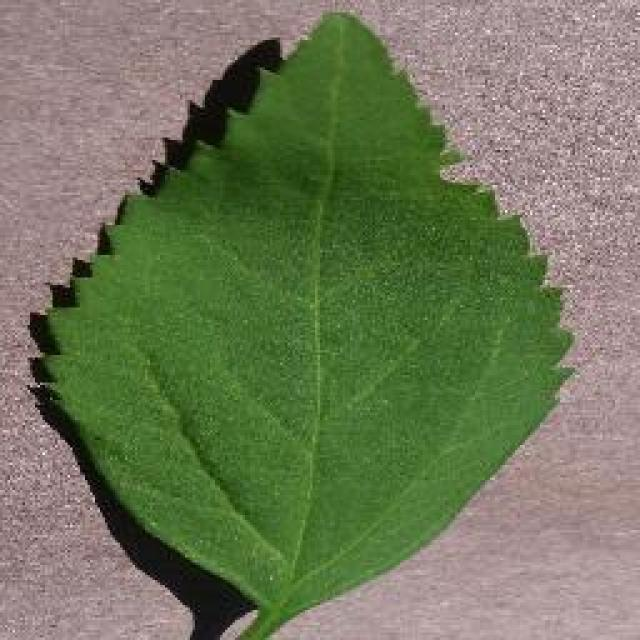Cherry___healthy: (27, 5, 585, 640)
